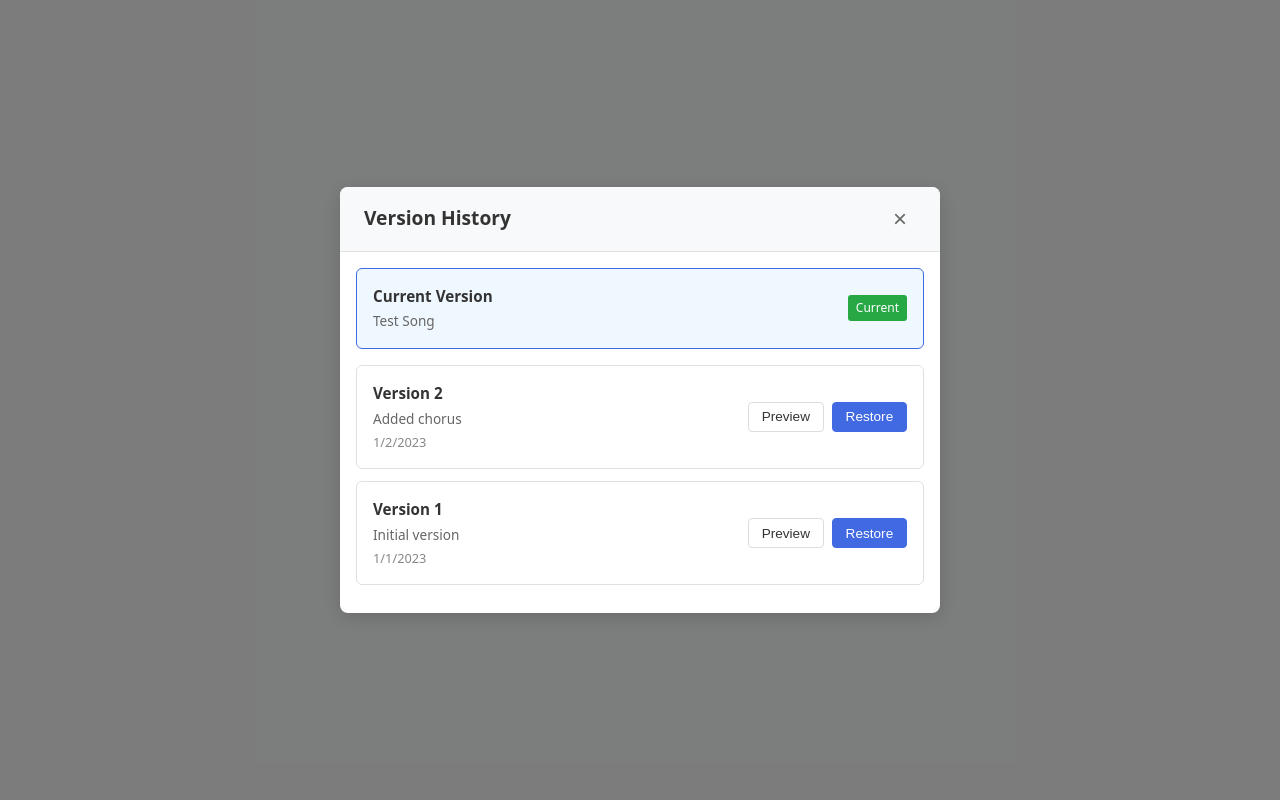
Scenario: HistoryPanel › handles error state during restore
This screenshot has width=1280, height=800.
Expected: the text "Version 2" is shown, [373, 383, 443, 403]
Click the button "Restore" in the row of "Added chorus" at [869, 417], box [832, 402, 907, 432]
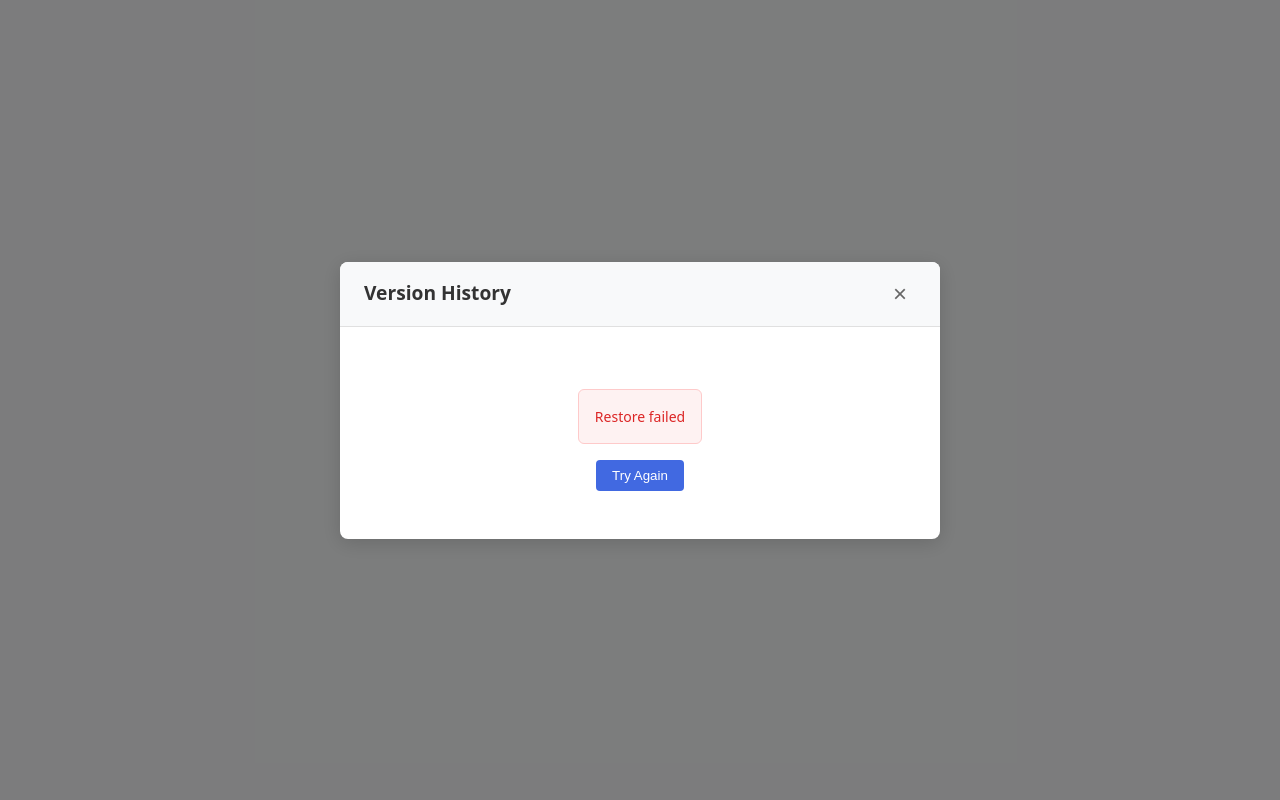
Result: the text "Restore failed" is shown at [578, 388, 702, 444]
